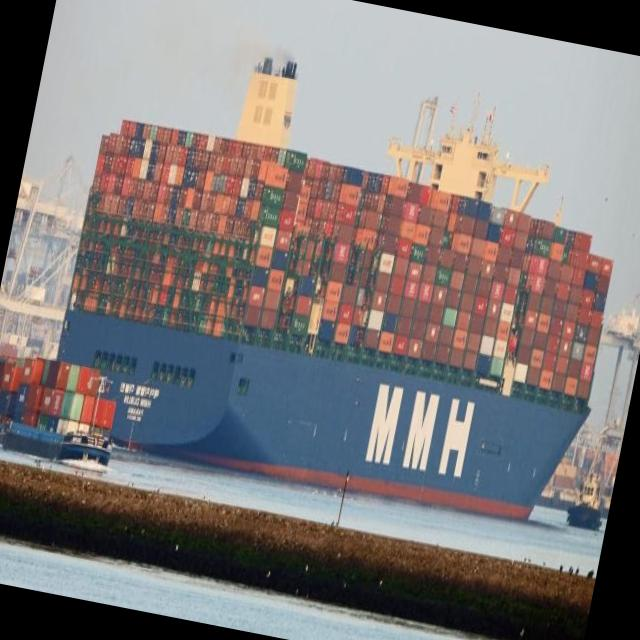Cargo: (58, 58, 613, 519)
